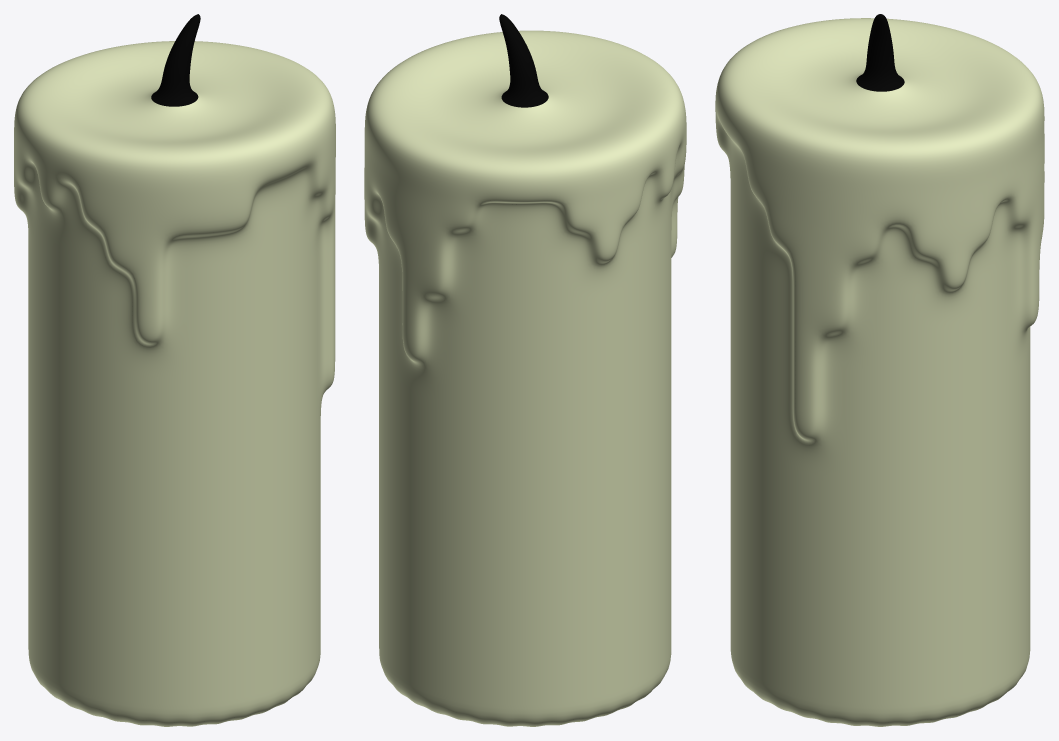
The model's file is vela2.fbx.
3 views of the same model, side by side, from view 1: azimuth 30°, elevation 25°; view 2: azimuth 150°, elevation 25°; view 3: azimuth 270°, elevation 25° (orthographic). The views are drawn at different scales.
Visible parts, largest first — view 1: Cylinder; view 2: Cylinder; view 3: Cylinder.
Part boxes in pixels (left/top/right/bottom): Cylinder: left=14, top=14, right=335, bottom=726; Cylinder: left=364, top=14, right=686, bottom=726; Cylinder: left=715, top=14, right=1044, bottom=726.
Size of the model in its own units: 219 by 497 by 218.
